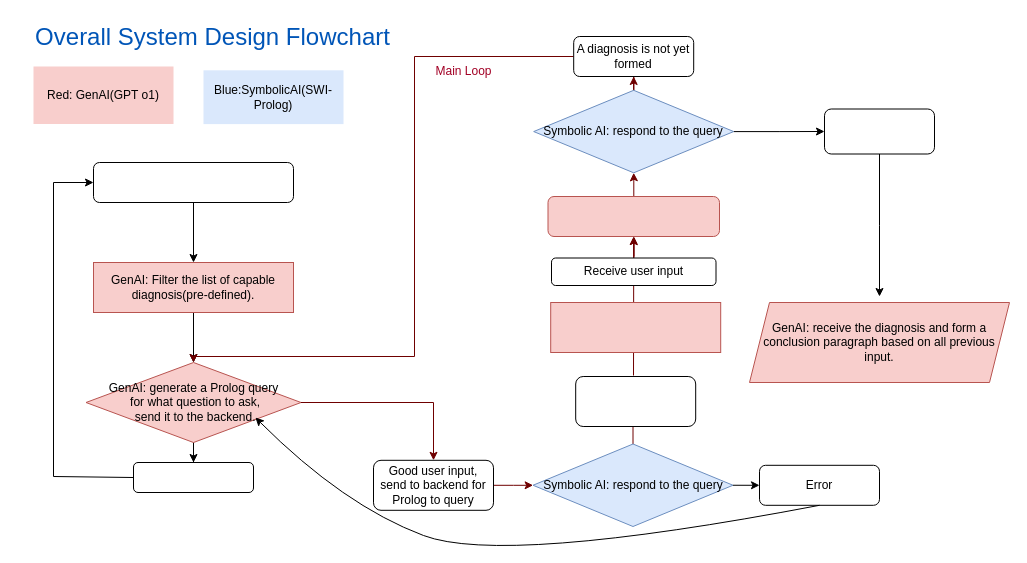
The diagram is 1027 pixels wide and 563 high, and some of its shapes have lost their labels. Here are the shapes that lost their labels. From the top down, the centre of each, then its label:
(879,131): A diagnosis can be formed
(193,182): Read initial user input to form the system prompt
(633,216): GenAI: evaluate the user input and produce prolog dynamic update
(635,327): GenAI: based on previous user input, rephrase the question
(635,401): Give question body and options for multiple choice
(193,477): If user input is bad
